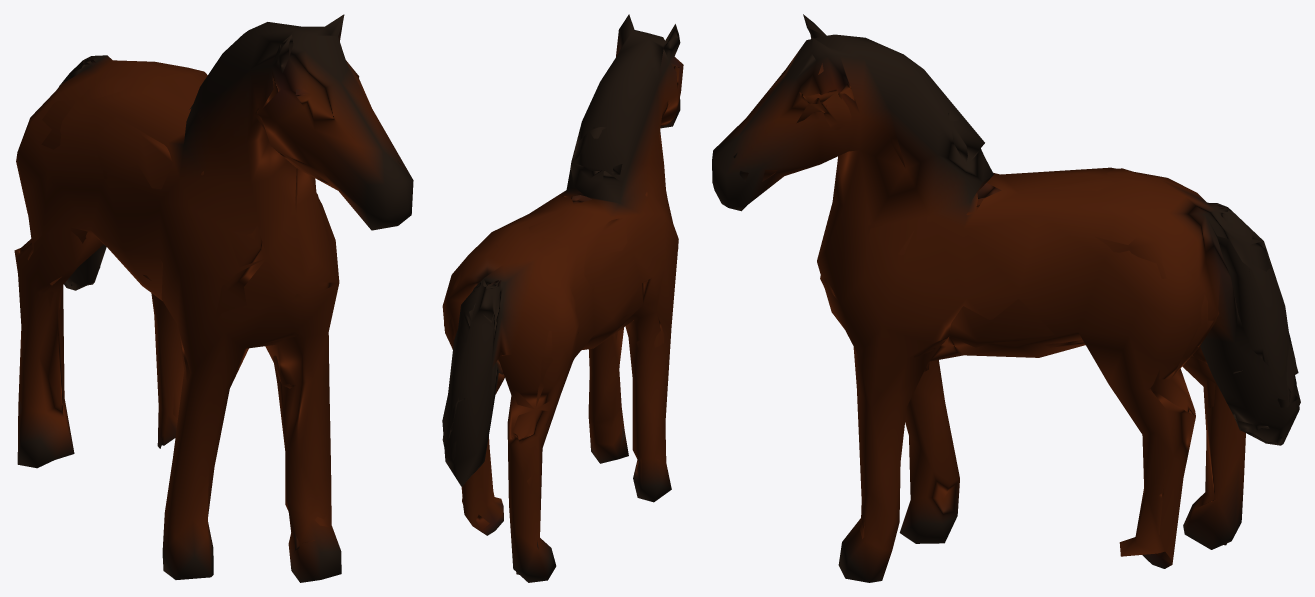
File: gen3d-horse-lod0.glb
The picture shows the model from 3 angles, left to right: view 1: azimuth 30°, elevation 25°; view 2: azimuth 150°, elevation 25°; view 3: azimuth 270°, elevation 25°; orthographic projection. The views are drawn at different scales.
Parts seen in each view (by area): view 1: part_0; view 2: part_0; view 3: part_0.
Boxes of the visible parts, left/top/right/bottom form: part_0: left=14, top=14, right=413, bottom=582; part_0: left=442, top=14, right=683, bottom=582; part_0: left=712, top=14, right=1300, bottom=582.
Bounding box in the file's own units: 0.3361 × 0.9993 × 0.9807.
